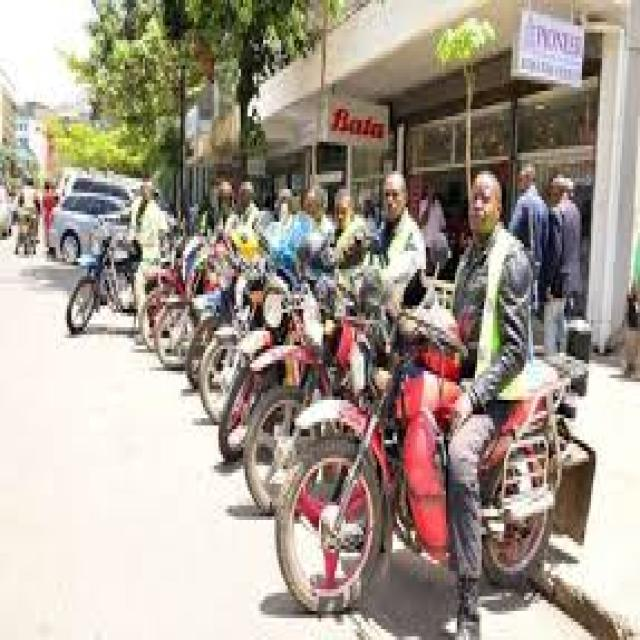bodaboda: (278, 286, 617, 623), (45, 189, 184, 336)
